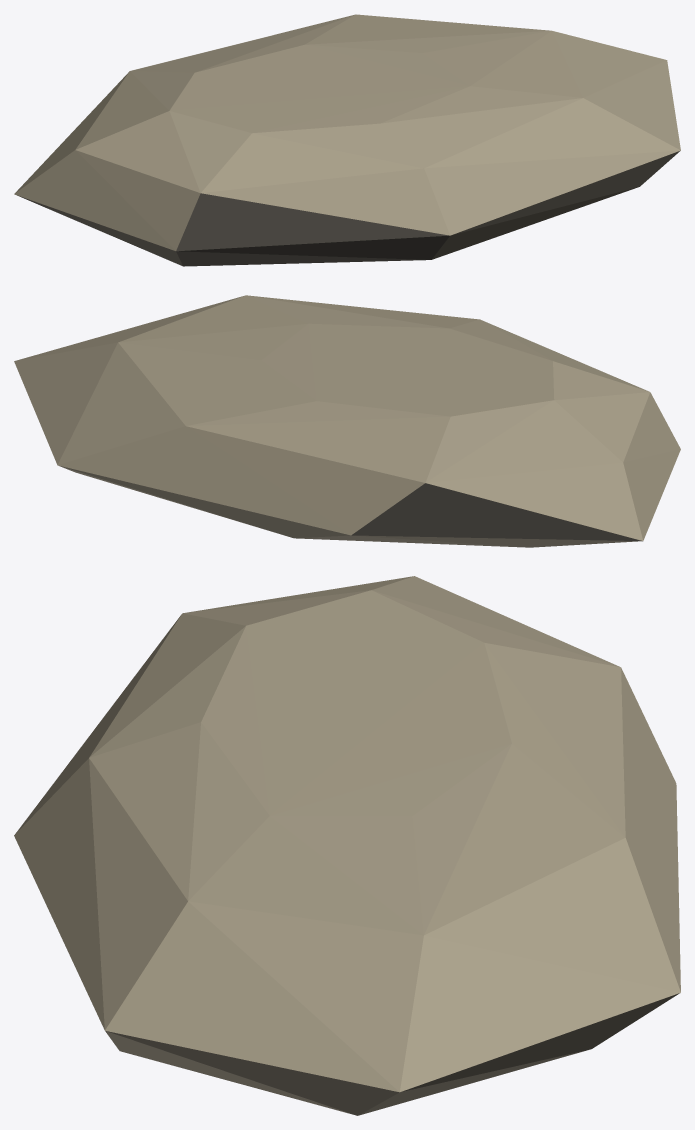
The model's file is TW_ROCK_FLAT_SLAB_A_LOD0.glb.
The picture shows the model from 3 angles, top to bottom: view 1: azimuth 30°, elevation 25°; view 2: azimuth 150°, elevation 25°; view 3: azimuth 270°, elevation 25°; orthographic projection. The views are drawn at different scales.
Visible parts, largest first — view 1: TW_ROCK_FLAT_SLAB_A_LOD0; view 2: TW_ROCK_FLAT_SLAB_A_LOD0; view 3: TW_ROCK_FLAT_SLAB_A_LOD0.
Part boxes in pixels (x1,y1,x2,y2): TW_ROCK_FLAT_SLAB_A_LOD0: (14,14,680,266); TW_ROCK_FLAT_SLAB_A_LOD0: (14,295,680,547); TW_ROCK_FLAT_SLAB_A_LOD0: (14,576,680,1115).
Size of the model in its own units: 1.42 by 0.2399 by 0.8535.
1 material, 1 textured.
